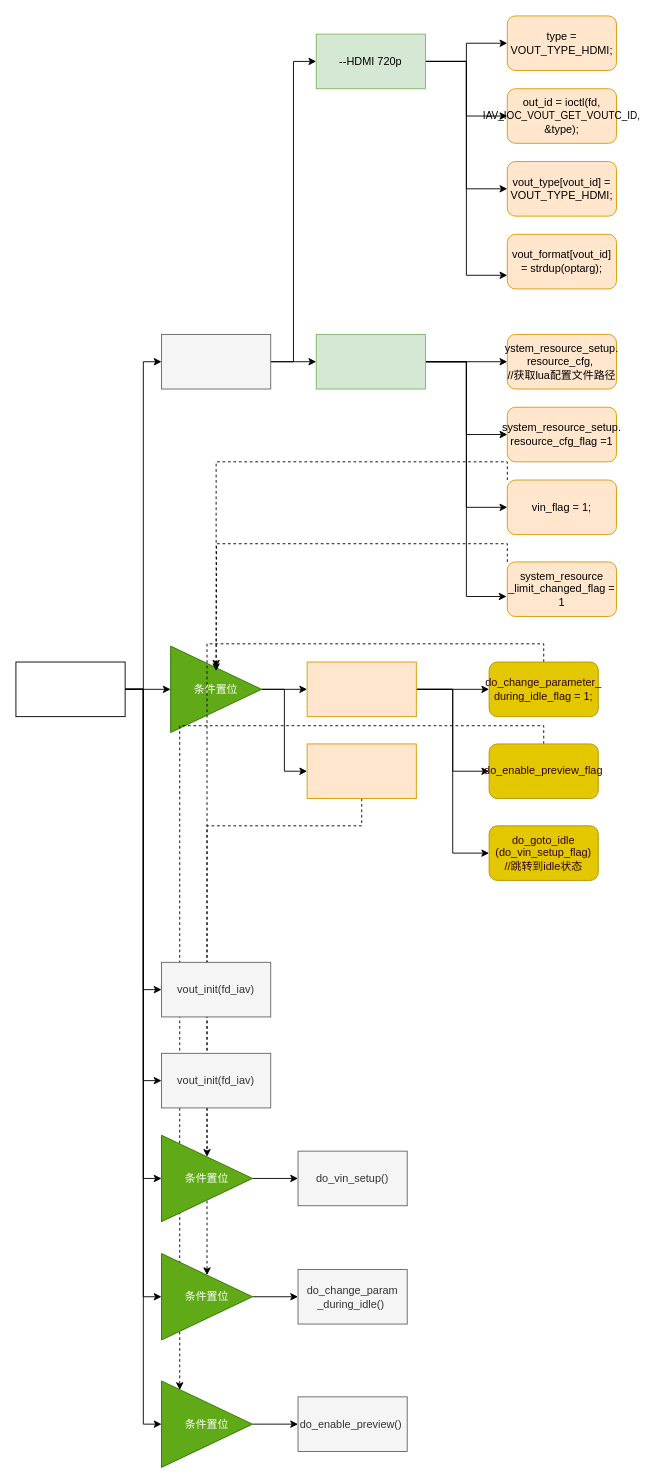
This 656x1483 diagram has some shape labels left out. The shapes that lost their labels are listed below. From the top down, each one's centre as x and y in pixels, then its label:
At (216,361): "init_param()".
At (370,361): "--recouce-cfg解析".
At (70,689): "test_encode(main)".
At (361,689): "do_goto_idle_flag = 1;".
At (361,771): "do_vin_setup_flag = 1;".
